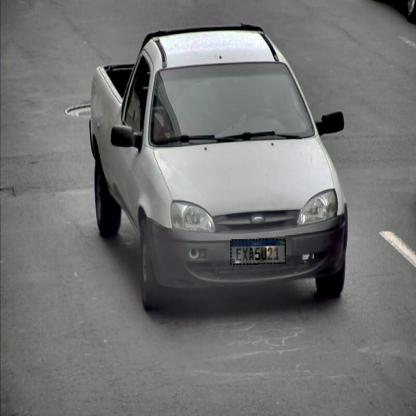PlacaM: (230, 238, 286, 265)
